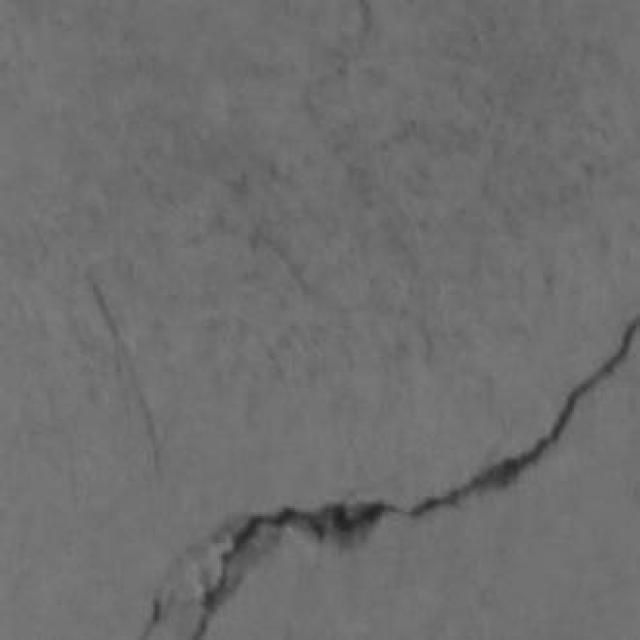crack: (189, 317, 639, 639), (88, 272, 162, 477)
